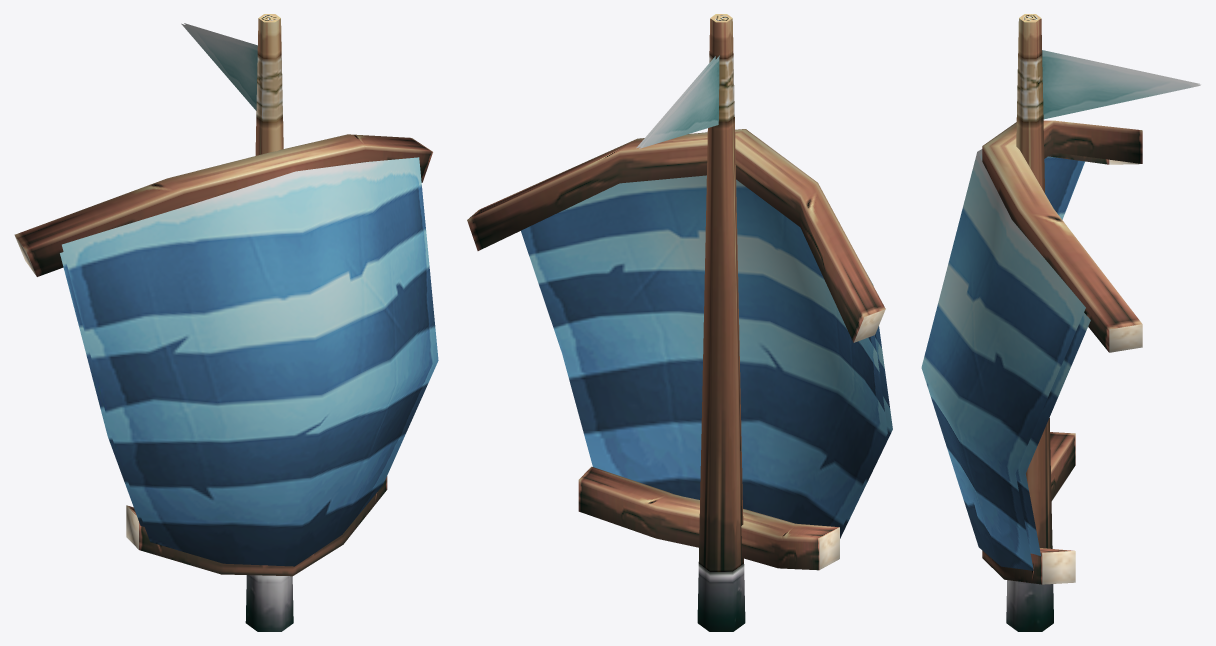
3 renders of one model, left to right at view 1: azimuth 30°, elevation 25°; view 2: azimuth 150°, elevation 25°; view 3: azimuth 270°, elevation 25°, orthographic.
Visible parts, largest first — view 1: pirate_boat_04; view 2: pirate_boat_04; view 3: pirate_boat_04.
Part boxes in pixels (left/top/right/bottom): pirate_boat_04: left=14, top=14, right=438, bottom=631; pirate_boat_04: left=467, top=14, right=892, bottom=631; pirate_boat_04: left=921, top=14, right=1200, bottom=631.
Bounding box in the file's own units: 5.5 × 7.82 × 3.28.
